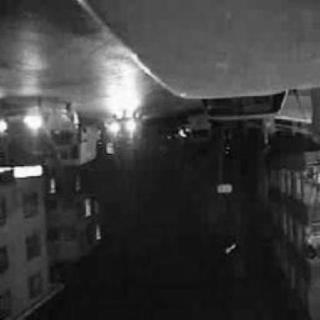other: (104, 117, 138, 137), (22, 115, 42, 132), (0, 116, 8, 136)
